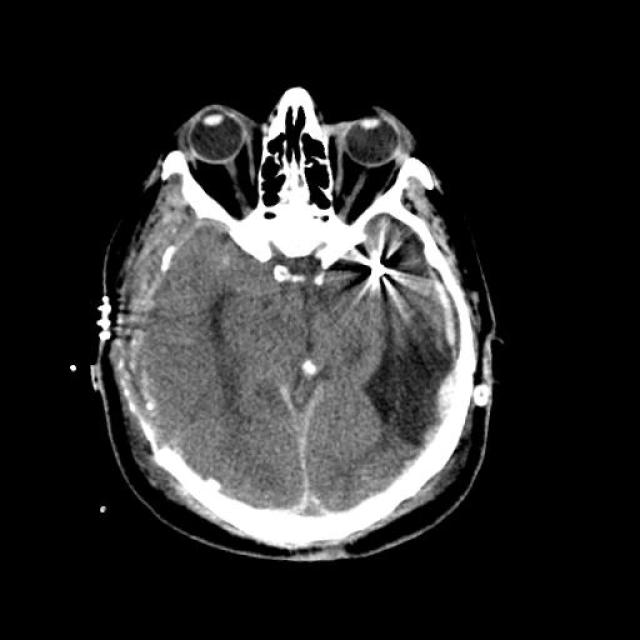Subdural: (235, 374, 369, 535)
